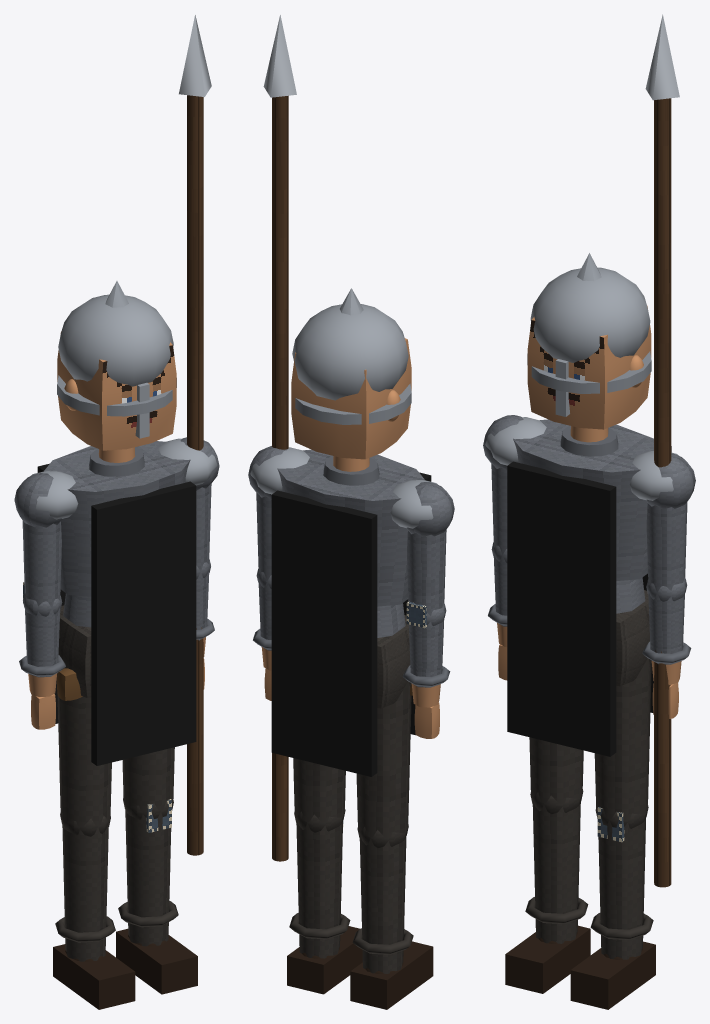
The model's file is guardia.glb.
3 renders of one model, left to right at view 1: azimuth 30°, elevation 25°; view 2: azimuth 150°, elevation 25°; view 3: azimuth 330°, elevation 25°, orthographic. The views are drawn at different scales.
Visible parts, largest first — view 1: guardia, object 30, object 36, object 33, object 1, object 3, object 9, object 6, object 13, object 16, object 7, object 18 (+13 smaller); view 2: guardia, object 36, object 30, object 33, object 1, object 3, object 9, object 6, object 7, object 16, object 13, object 18 (+14 smaller); view 3: guardia, object 30, object 36, object 33, object 7, object 3, object 9, object 13, object 6, object 24, object 1, object 26 (+13 smaller).
Boxes of the visible parts, x1,y1,x2,y2 form: guardia: (31,438,217,765); object 30: (187,95,203,855); object 36: (58,294,173,386); object 33: (57,331,176,450); object 1: (57,693,111,826); object 3: (62,822,108,961); object 9: (125,810,171,946); object 6: (53,944,135,1009); object 13: (116,928,197,994); object 16: (22,520,61,607); object 7: (122,747,174,811); object 18: (25,606,60,677); guardia: (250,447,437,776); object 36: (292,304,408,400); object 30: (272,95,288,861); object 33: (291,338,411,459); object 1: (356,681,411,838); object 3: (359,834,406,973); object 9: (296,819,342,958); object 6: (350,941,433,1009); object 7: (293,758,345,822); object 16: (407,529,446,615); object 13: (287,926,362,994); object 18: (408,619,444,687); guardia: (485,417,690,756); object 30: (654,98,671,887); object 36: (530,267,650,362); object 33: (527,305,651,429); object 7: (594,658,651,819); object 3: (532,800,580,943); object 9: (598,818,645,959); object 13: (570,941,655,1009); object 6: (505,925,590,993); object 24: (646,502,687,592); object 1: (529,737,583,803); object 26: (648,591,684,664).
Size of the model in its own units: 0.595 by 2.72 by 0.3224.
Materials: 19 (5 with a texture image).
